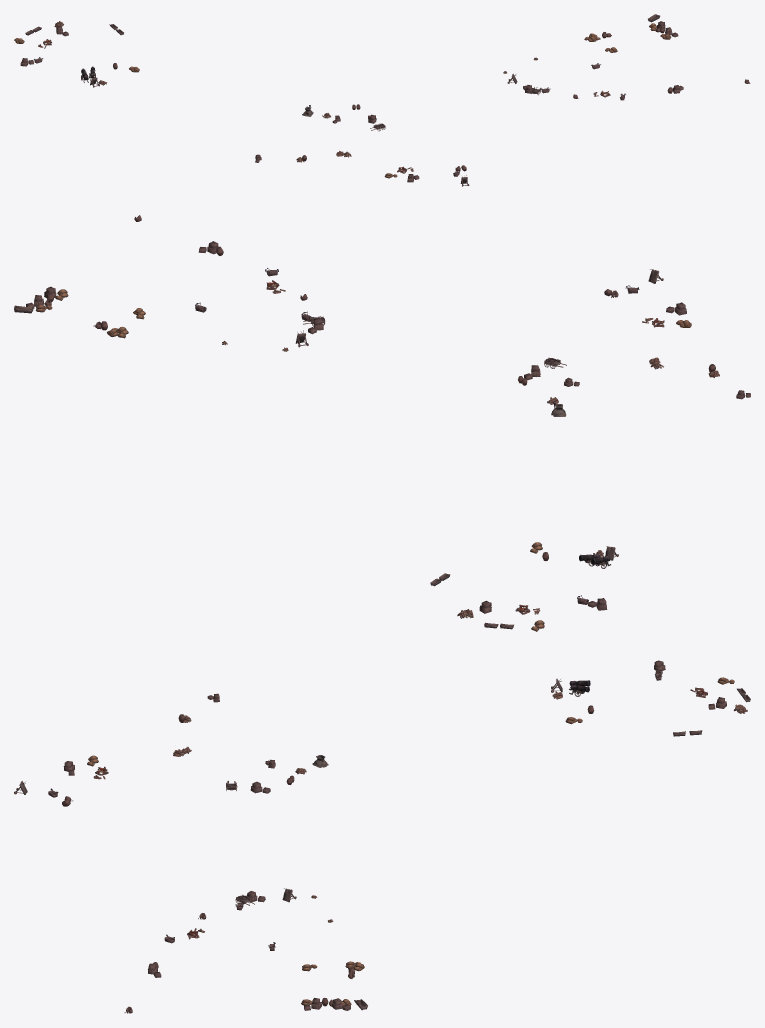
File: all_daliang_field_a_s02.fbx
3 views of the same model, one above another, from view 1: azimuth 30°, elevation 25°; view 2: azimuth 150°, elevation 25°; view 3: azimuth 270°, elevation 25° (orthographic). The views are drawn at different scales.
Visible parts, largest first — view 1: all_daliang_field_a_s02; view 2: all_daliang_field_a_s02; view 3: all_daliang_field_a_s02.
Boxes of the visible parts, x1=… form: all_daliang_field_a_s02: x1=14, y1=14, x2=750, y2=186; all_daliang_field_a_s02: x1=14, y1=215, x2=750, y2=631; all_daliang_field_a_s02: x1=14, y1=660, x2=750, y2=1013.
Bounding box in the file's own units: 14080 × 445 × 12687.
